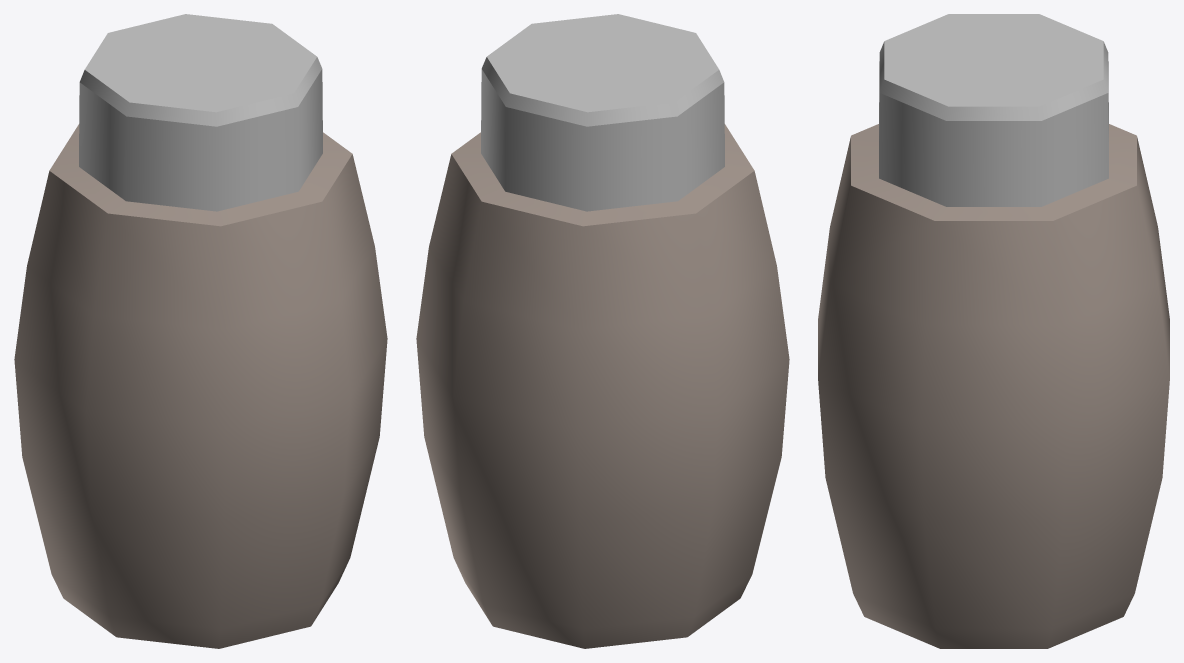
Rendered from pepper.fbx.
The picture shows the model from 3 angles, left to right: view 1: azimuth 30°, elevation 25°; view 2: azimuth 150°, elevation 25°; view 3: azimuth 270°, elevation 25°; orthographic projection.
Parts seen in each view (by area): view 1: pepper; view 2: pepper; view 3: pepper.
Boxes of the visible parts, <box> form: pepper: <box>14,14,387,648</box>; pepper: <box>416,14,789,648</box>; pepper: <box>818,14,1169,648</box>.
Size of the model in its own units: 1.19 by 1.19 by 2.
